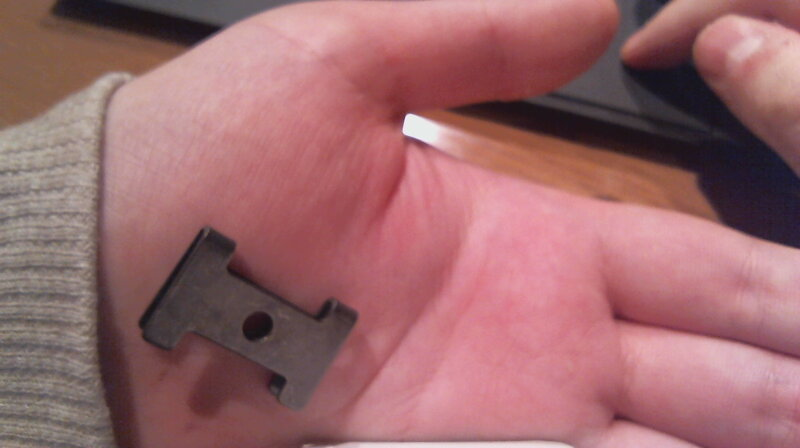O002: (134, 223, 362, 408)
